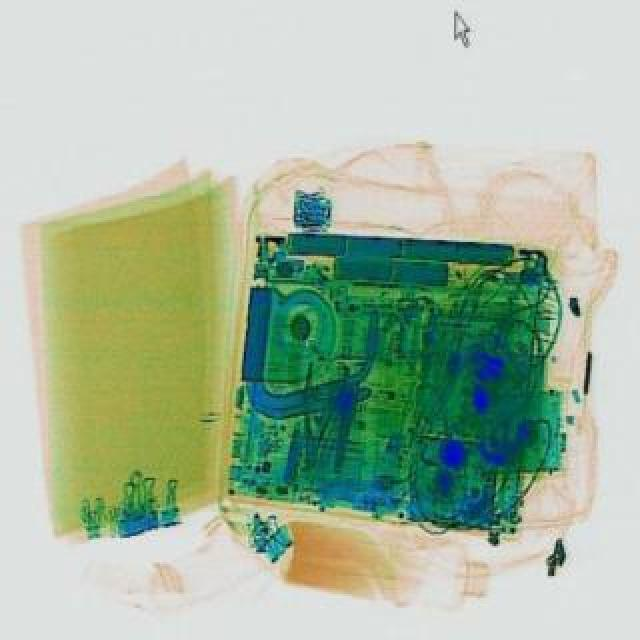wrench: (286, 356, 350, 470)
